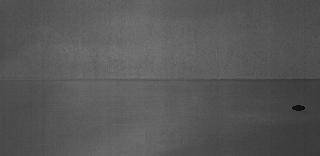punching hole: (291, 104, 307, 114)
welding line: (2, 72, 316, 86)
